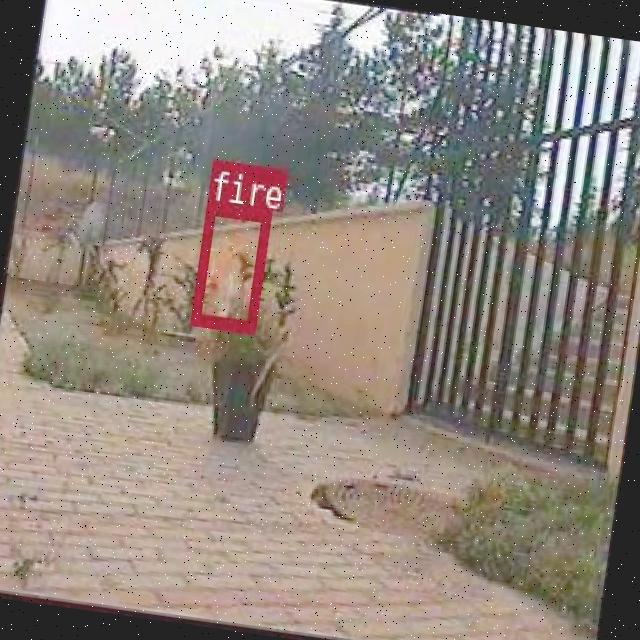fire: (190, 200, 270, 332)
